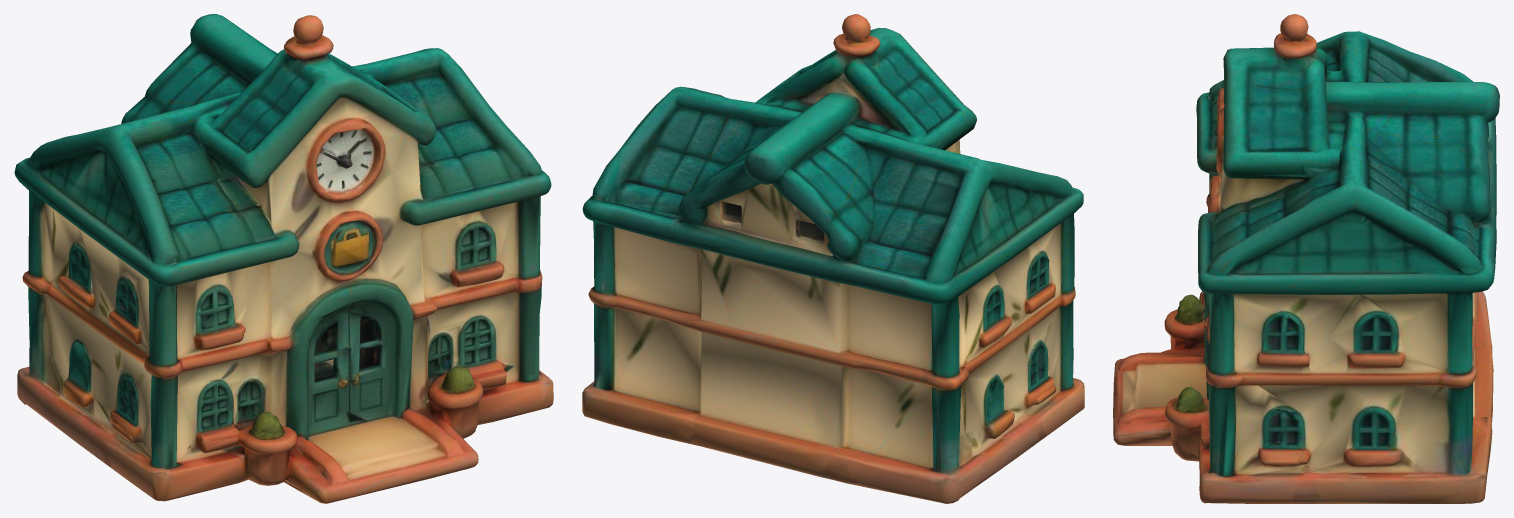
The model's file is building-job-center.glb.
The picture shows the model from 3 angles, left to right: view 1: azimuth 30°, elevation 25°; view 2: azimuth 150°, elevation 25°; view 3: azimuth 270°, elevation 25°; orthographic projection. The views are drawn at different scales.
Parts seen in each view (by area): view 1: Mesh_0; view 2: Mesh_0; view 3: Mesh_0.
Part boxes in pixels (x1,y1,x2,y2): Mesh_0: (14,14,553,503); Mesh_0: (582,14,1084,503); Mesh_0: (1113,14,1499,503).
Size of the model in its own units: 2 by 1.94 by 1.72.
Materials: 1 (1 with a texture image).
